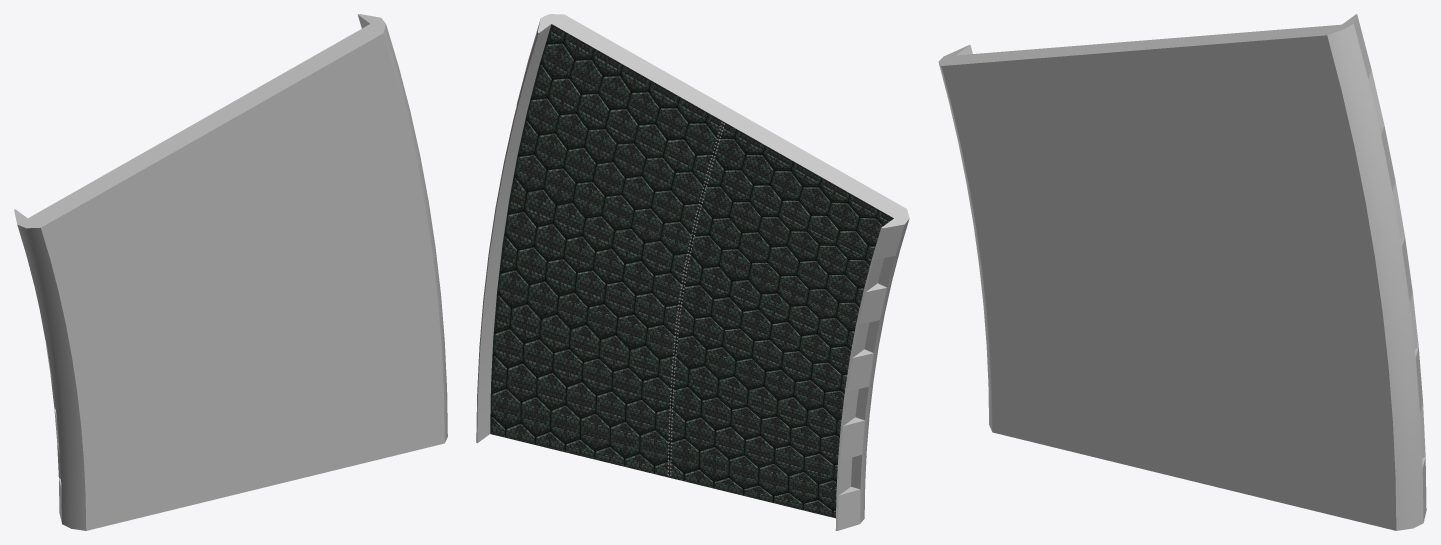
Rendered from highway_30_degree_turn.fbx.
3 renders of one model, left to right at view 1: azimuth 30°, elevation 25°; view 2: azimuth 150°, elevation 25°; view 3: azimuth 330°, elevation 25°, orthographic. The views are drawn at different scales.
Visible parts, largest first — view 1: highway_30_degree_turn; view 2: highway_30_degree_turn, light_015; view 3: highway_30_degree_turn.
Part boxes in pixels (x1=…): highway_30_degree_turn: x1=14, y1=14, x2=447, y2=530; highway_30_degree_turn: x1=476, y1=14, x2=909, y2=530; light_015: x1=667, y1=122, x2=724, y2=475; highway_30_degree_turn: x1=938, y1=14, x2=1426, y2=530.
Bounding box in the file's own units: 9.5 × 9.14 × 1.
